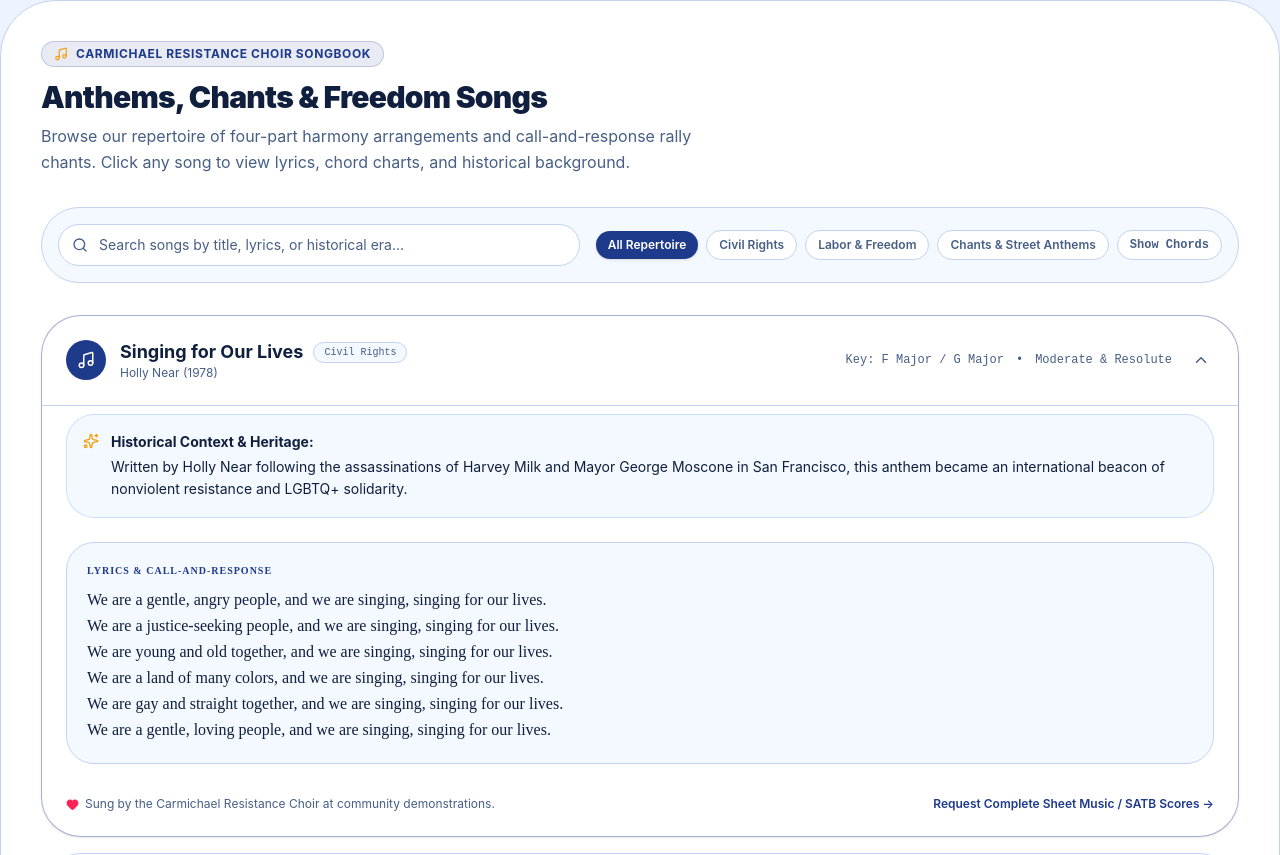
it: ChoirSongbookExplorer › toggles chords visibility on click
Click the button "Show Chords" at (1169, 245), box [1117, 230, 1222, 260]
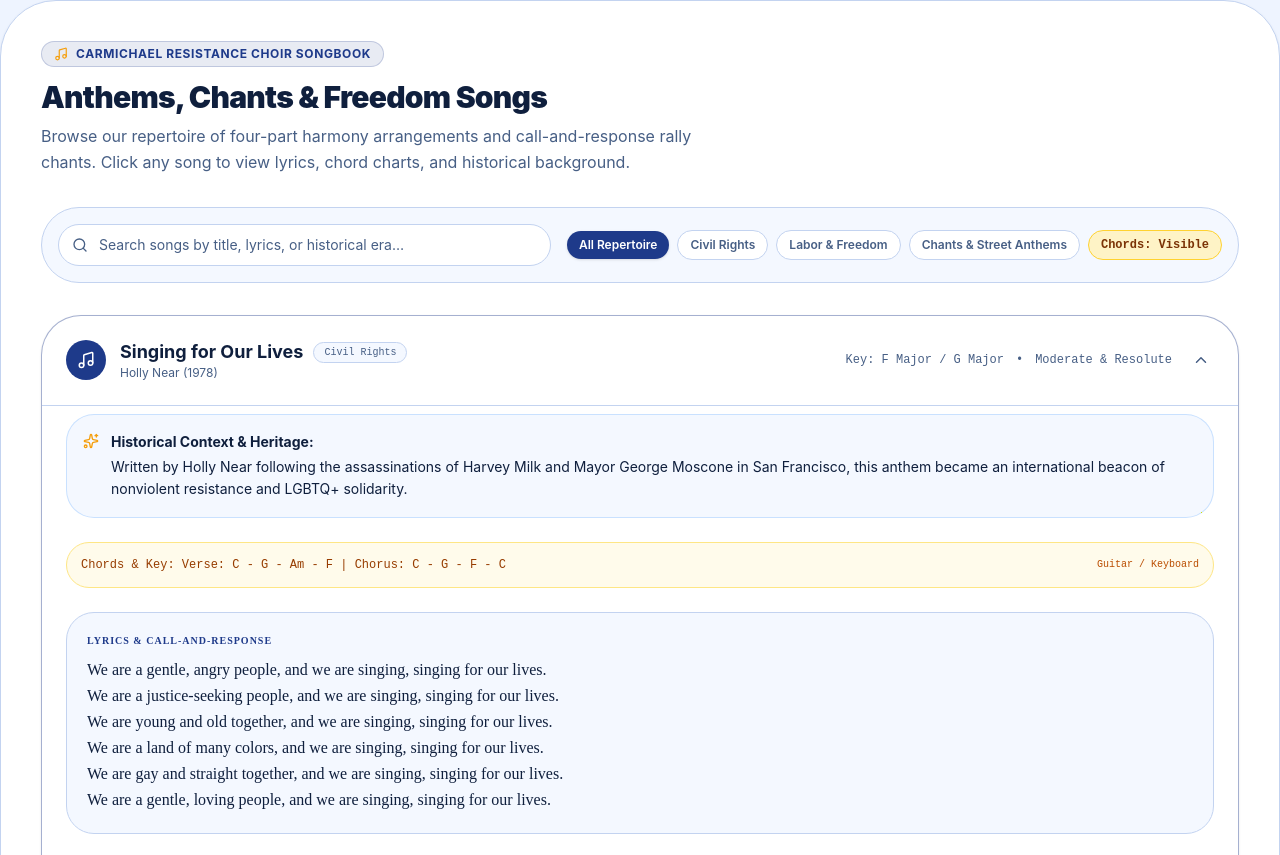
Check: the button "Chords: Visible" is shown, box [1088, 230, 1222, 260]
Check: the text "Chords:" is shown, box [1088, 230, 1222, 260]
